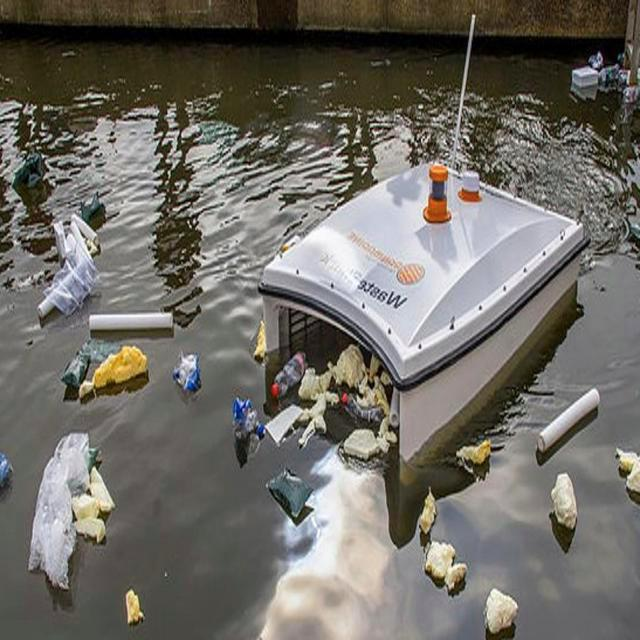Trash: (22, 433, 87, 588), (532, 387, 604, 458), (38, 251, 95, 319), (86, 341, 147, 394), (262, 466, 313, 524), (266, 350, 309, 402), (545, 472, 583, 529), (52, 212, 99, 258), (228, 394, 265, 444), (57, 340, 94, 389), (265, 402, 302, 448), (328, 343, 364, 389), (87, 312, 178, 330), (482, 588, 519, 632), (601, 62, 640, 103), (86, 462, 116, 514), (612, 446, 640, 501), (342, 424, 380, 463), (339, 386, 384, 417), (175, 348, 204, 394), (427, 538, 454, 582), (456, 438, 489, 474), (296, 402, 331, 434), (417, 483, 437, 537), (298, 367, 325, 407), (80, 507, 107, 545), (122, 588, 143, 628), (446, 558, 467, 596), (247, 321, 266, 361), (567, 66, 598, 90), (378, 418, 397, 457), (0, 454, 11, 491), (367, 355, 377, 380)
